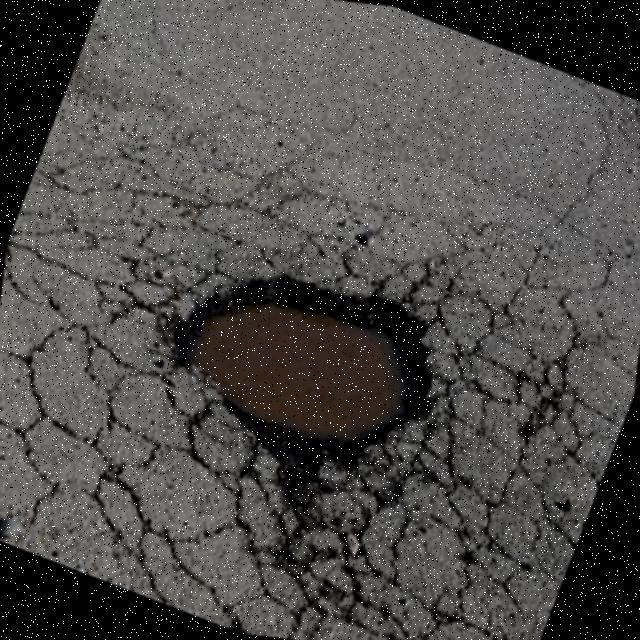Pothole: (179, 275, 431, 450)
